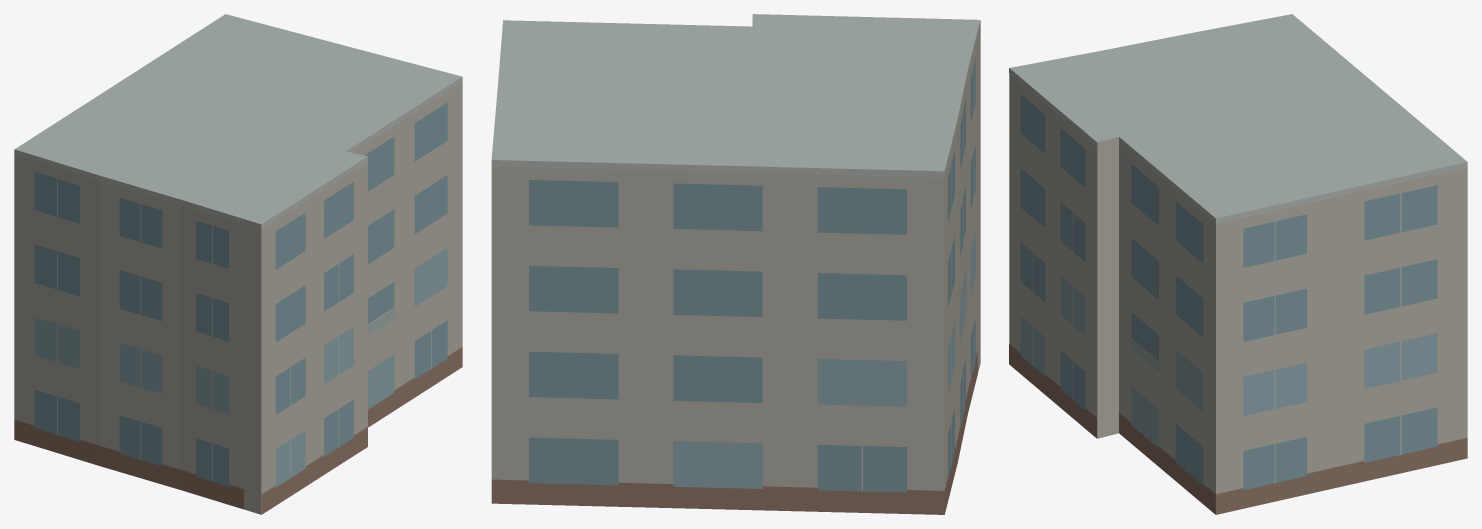
The model's file is survey-upis-32743043.glb.
3 renders of one model, left to right at view 1: azimuth 30°, elevation 25°; view 2: azimuth 150°, elevation 25°; view 3: azimuth 270°, elevation 25°, orthographic. The views are drawn at different scales.
Parts seen in each view (by area): view 1: survey-upis-32743043.tmp; view 2: survey-upis-32743043.tmp; view 3: survey-upis-32743043.tmp.
Boxes of the visible parts, x1,y1,x2,y2 form: survey-upis-32743043.tmp: (14,14,462,514); survey-upis-32743043.tmp: (491,14,980,514); survey-upis-32743043.tmp: (1009,14,1467,514).
Size of the model in its own units: 19.24 by 13 by 18.23.
